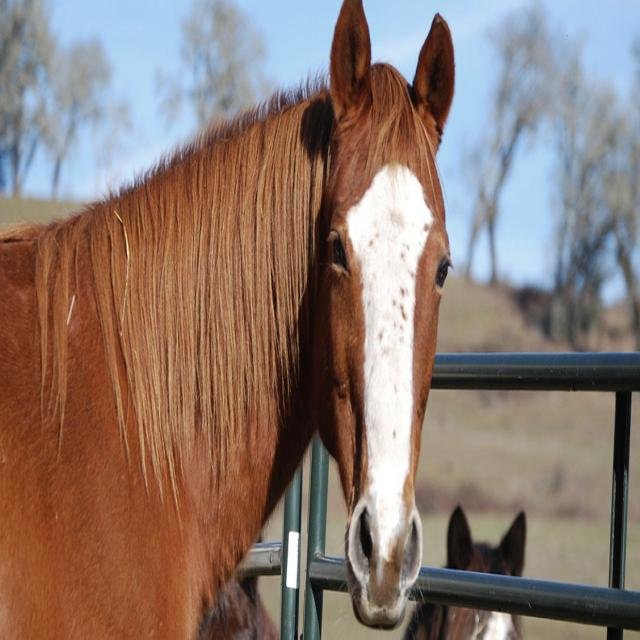horse: (0, 0, 454, 639)
